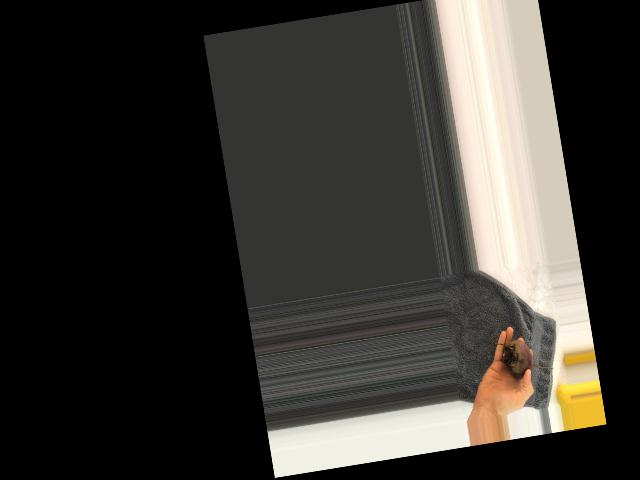beet: (499, 335, 554, 381)
